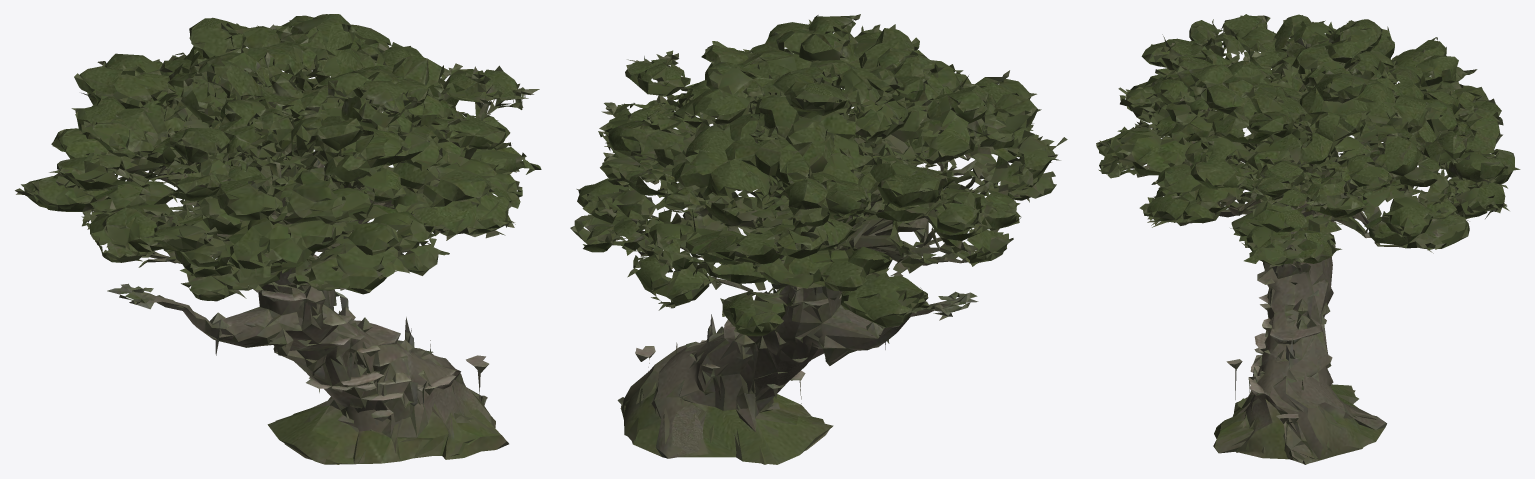
File: wroshyrgreat.glb
The picture shows the model from 3 angles, left to right: view 1: azimuth 30°, elevation 25°; view 2: azimuth 150°, elevation 25°; view 3: azimuth 270°, elevation 25°; orthographic projection. The views are drawn at different scales.
Visible parts, largest first — view 1: kachirho; view 2: kachirho; view 3: kachirho.
Part boxes in pixels (x1,y1,x2,y2): kachirho: (15, 14, 541, 464); kachirho: (570, 14, 1067, 464); kachirho: (1096, 14, 1520, 464).
Bounding box in the file's own units: 249 × 230 × 254.
1 material, 1 textured.
